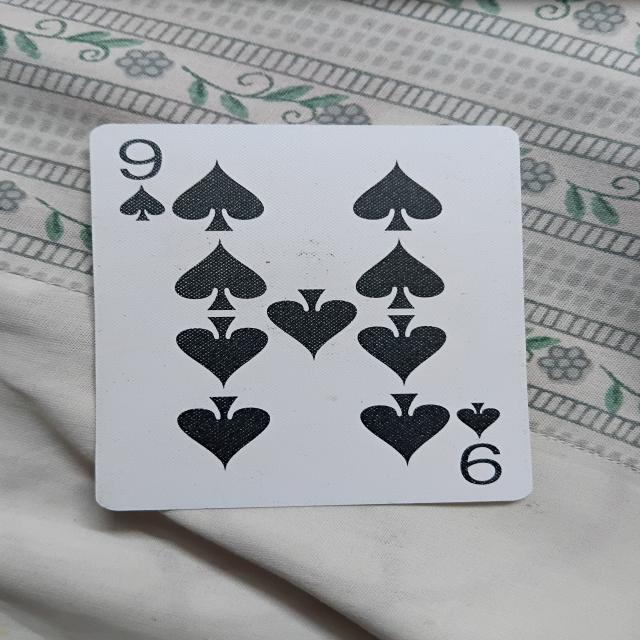9S: (84, 115, 542, 508)
